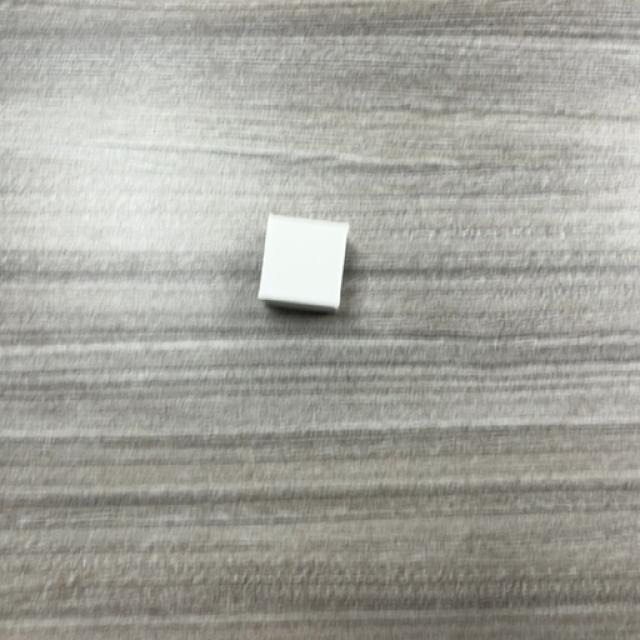Blanco: (258, 215, 350, 315)
